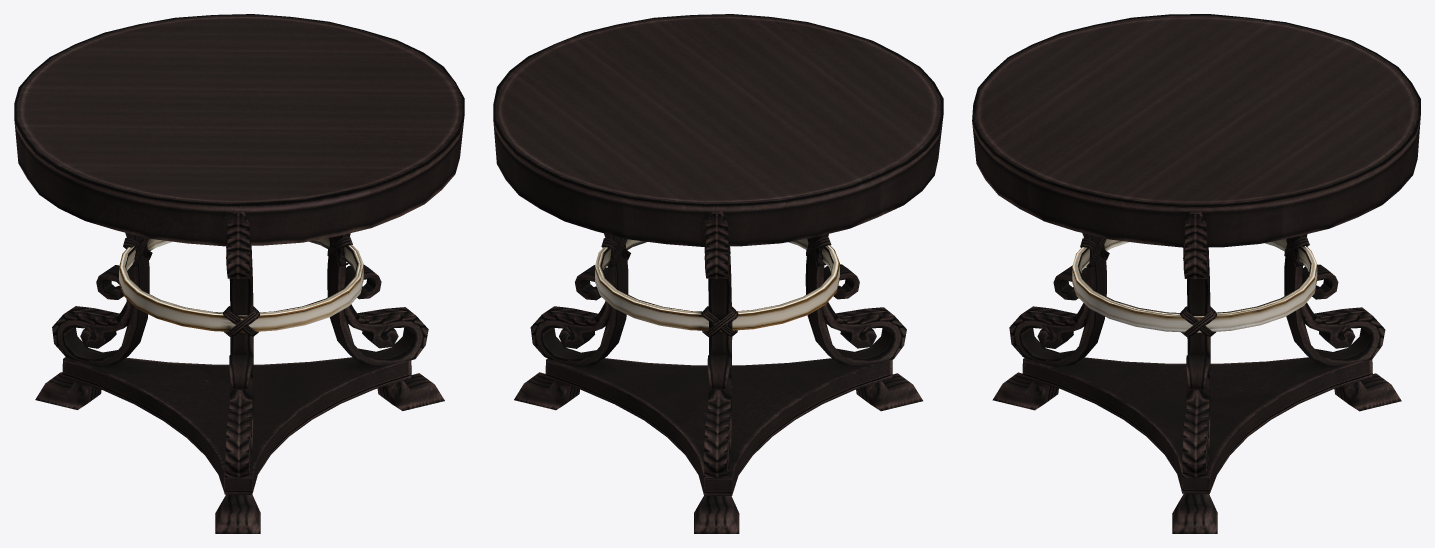
File: Desk02.FBX
The picture shows the model from 3 angles, left to right: view 1: azimuth 30°, elevation 25°; view 2: azimuth 150°, elevation 25°; view 3: azimuth 270°, elevation 25°; orthographic projection.
Parts seen in each view (by area): view 1: Desk02; view 2: Desk02; view 3: Desk02.
Boxes of the visible parts, left/top/right/bottom form: Desk02: left=14, top=14, right=464, bottom=533; Desk02: left=493, top=14, right=943, bottom=533; Desk02: left=972, top=14, right=1420, bottom=533.
Size of the model in its own units: 101 by 78.32 by 96.65.
